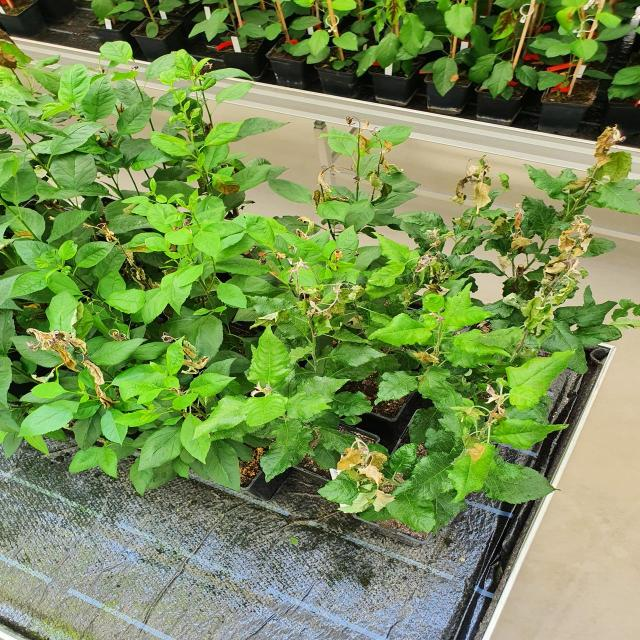-FireBlight-: (27, 324, 106, 396), (549, 207, 585, 317), (337, 447, 393, 513), (456, 164, 503, 216), (167, 330, 210, 384), (588, 125, 625, 177)
